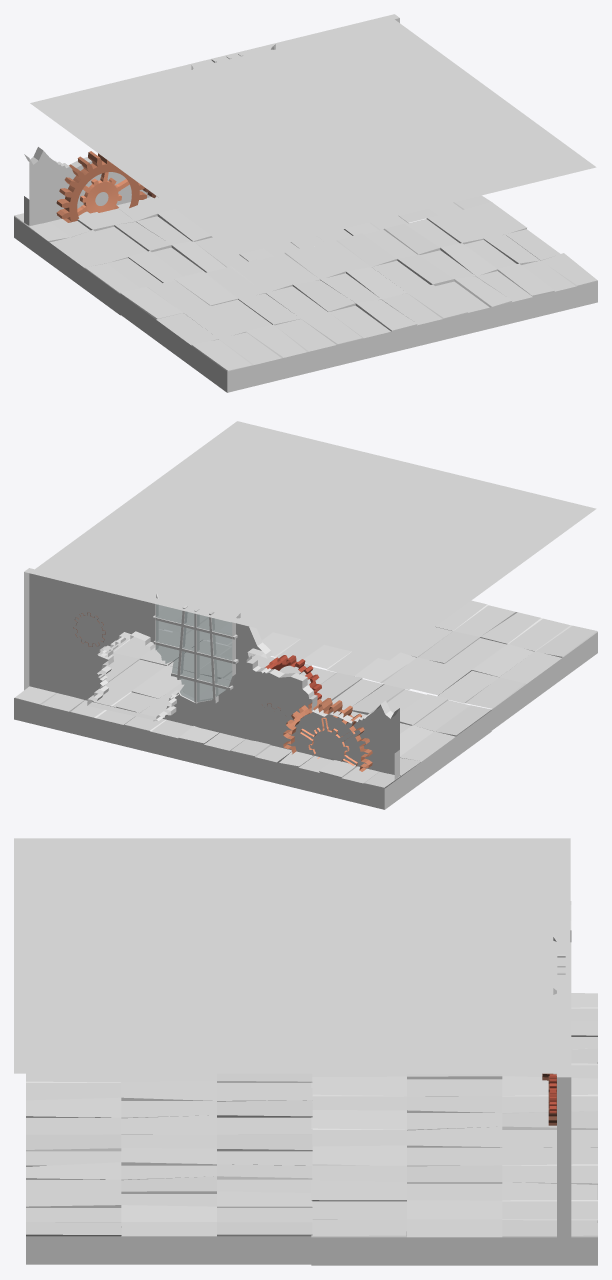
The model's file is EscenarioFabricaPrimero.fbx.
3 renders of one model, top to bottom at view 1: azimuth 30°, elevation 25°; view 2: azimuth 150°, elevation 25°; view 3: azimuth 270°, elevation 25°, orthographic. The views are drawn at different scales.
Visible parts, largest first — view 1: Techo, Piso, Pared, Gear.002, Gear.005; view 2: Techo, Piso, Pared, Ventana, Gear.002, Gear.003; view 3: Techo, Piso, Pared.
Boxes of the visible parts, bbox=[...] form: Techo: bbox=[30, 15, 596, 254]; Piso: bbox=[14, 195, 597, 392]; Pared: bbox=[24, 14, 399, 247]; Gear.002: bbox=[56, 151, 147, 222]; Gear.005: bbox=[77, 172, 129, 215]; Techo: bbox=[30, 421, 596, 660]; Piso: bbox=[14, 600, 597, 809]; Pared: bbox=[24, 568, 400, 801]; Ventana: bbox=[152, 604, 238, 703]; Gear.002: bbox=[283, 698, 372, 771]; Gear.003: bbox=[265, 655, 321, 699]; Techo: bbox=[14, 838, 570, 1073]; Piso: bbox=[26, 993, 597, 1265]; Pared: bbox=[553, 901, 571, 1237].
Bounding box in the file's own units: 2071 × 828 × 2088.
